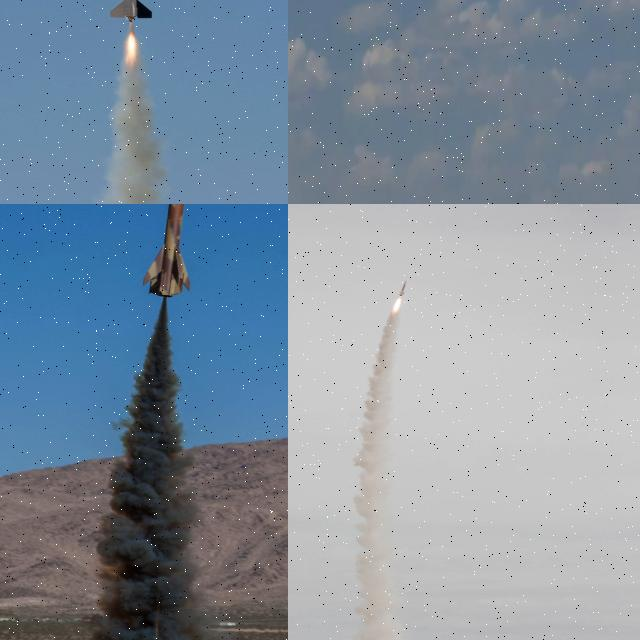Rocket: (141, 204, 192, 299), (398, 279, 408, 298)
